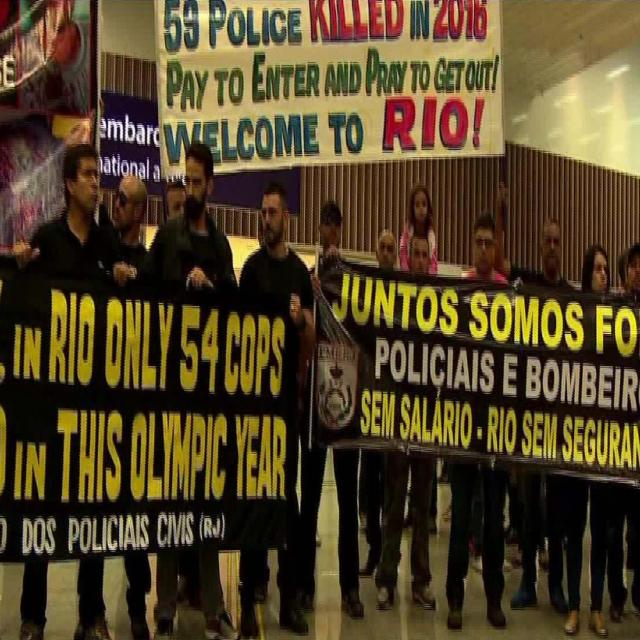body: (138, 132, 245, 639), (12, 132, 117, 640), (139, 177, 229, 613), (234, 178, 316, 639), (295, 193, 368, 620), (444, 211, 510, 633), (508, 220, 571, 614), (374, 229, 438, 614), (561, 241, 613, 638), (358, 227, 407, 586), (604, 238, 640, 625), (466, 510, 550, 578), (108, 173, 150, 285), (398, 180, 438, 275), (407, 446, 439, 540), (358, 442, 379, 538), (252, 202, 272, 258), (616, 246, 634, 292)
